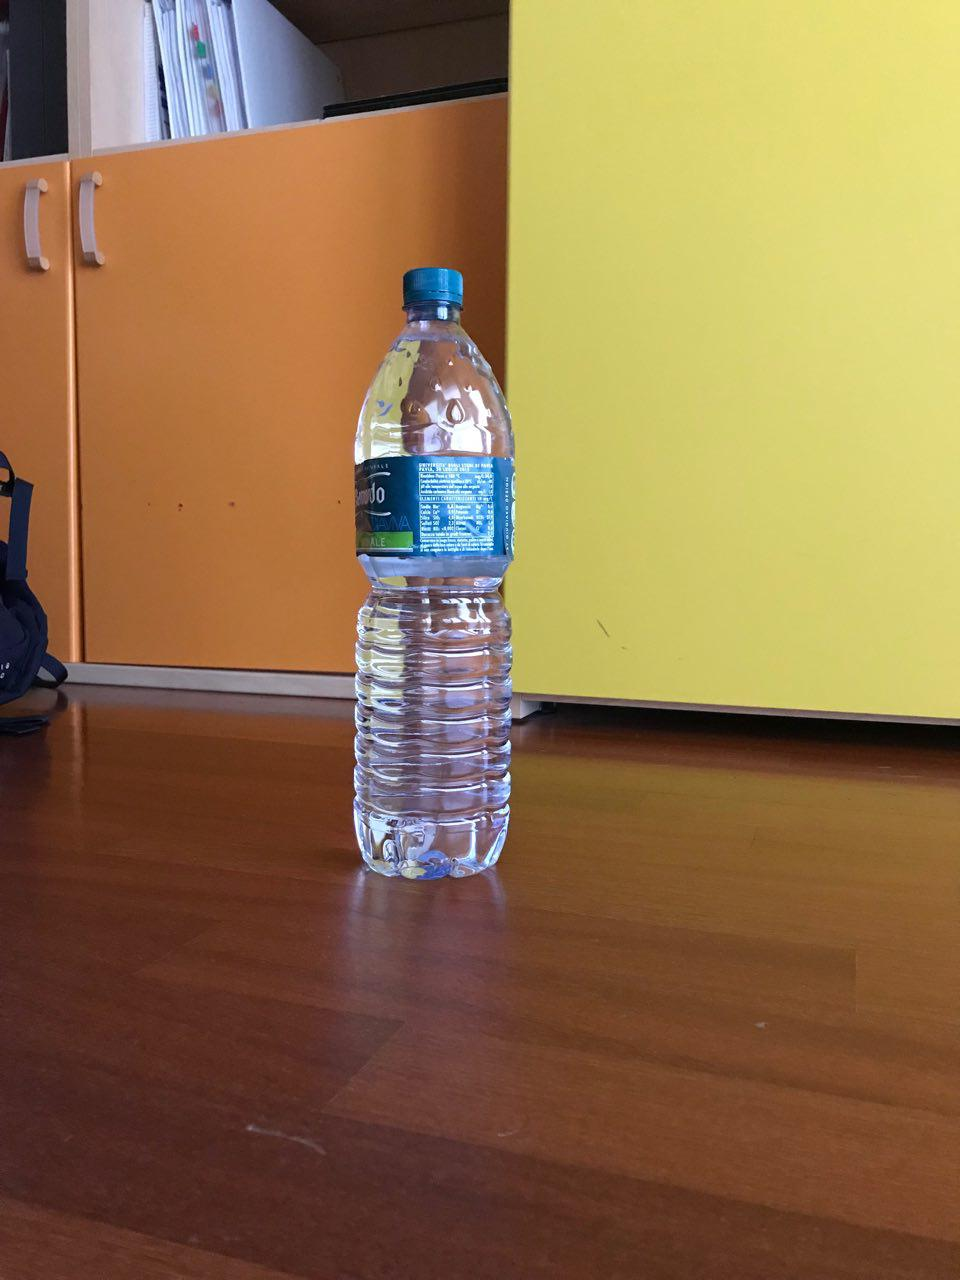san_bernardo: (352, 265, 517, 882)
